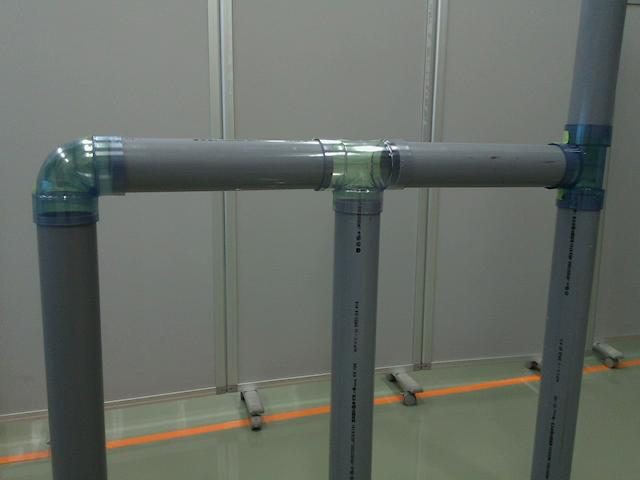bent: (32, 132, 121, 228)
junction: (314, 138, 412, 213), (544, 124, 609, 214)
